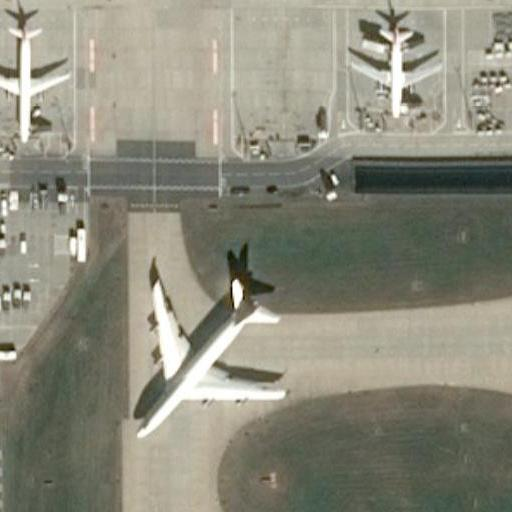Aircraft: (128, 265, 290, 438), (346, 20, 439, 116), (0, 24, 70, 136)
